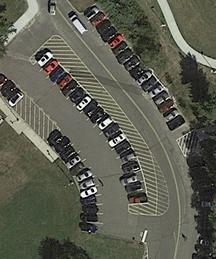parkingspot: (30, 51, 149, 206), (78, 2, 194, 142), (45, 128, 105, 236), (0, 72, 28, 110)
